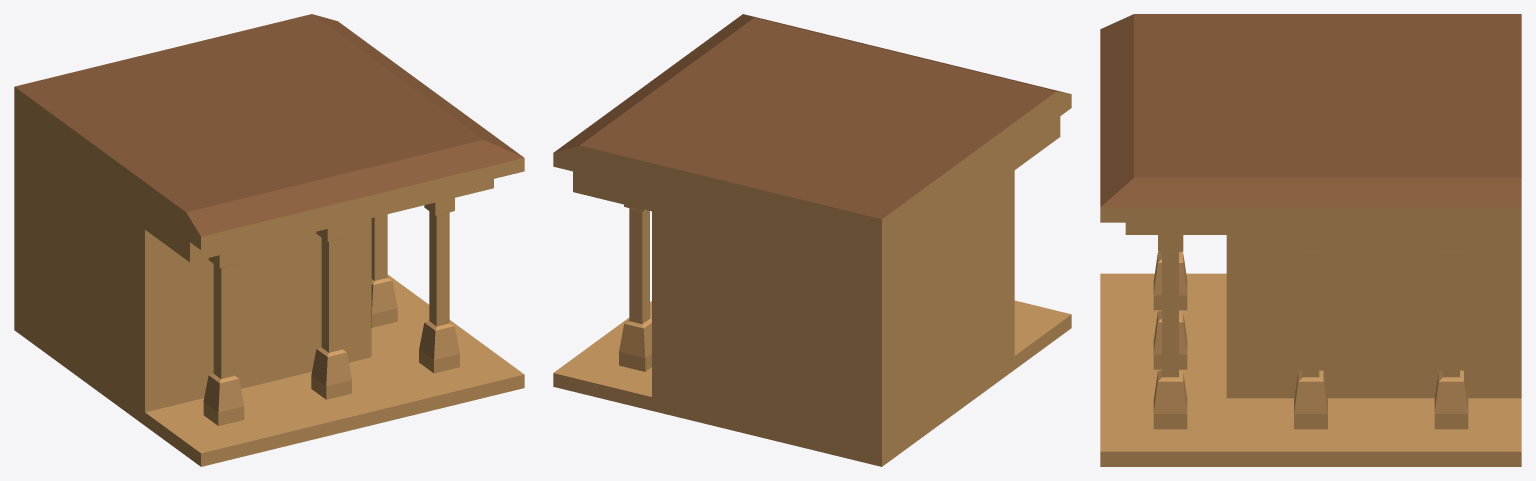
The model's file is hindu-wall-interior-edge.glb.
3 renders of one model, left to right at view 1: azimuth 30°, elevation 25°; view 2: azimuth 150°, elevation 25°; view 3: azimuth 270°, elevation 25°, orthographic. The views are drawn at different scales.
Parts seen in each view (by area): view 1: hindu-wall-interior-edge; view 2: hindu-wall-interior-edge; view 3: hindu-wall-interior-edge.
Part boxes in pixels (x1,y1,x2,y2): hindu-wall-interior-edge: (14, 14, 524, 466); hindu-wall-interior-edge: (553, 14, 1071, 466); hindu-wall-interior-edge: (1100, 14, 1521, 466).
Bounding box in the file's own units: 5 × 3.6 × 5.
Materials: 1 (1 with a texture image).
